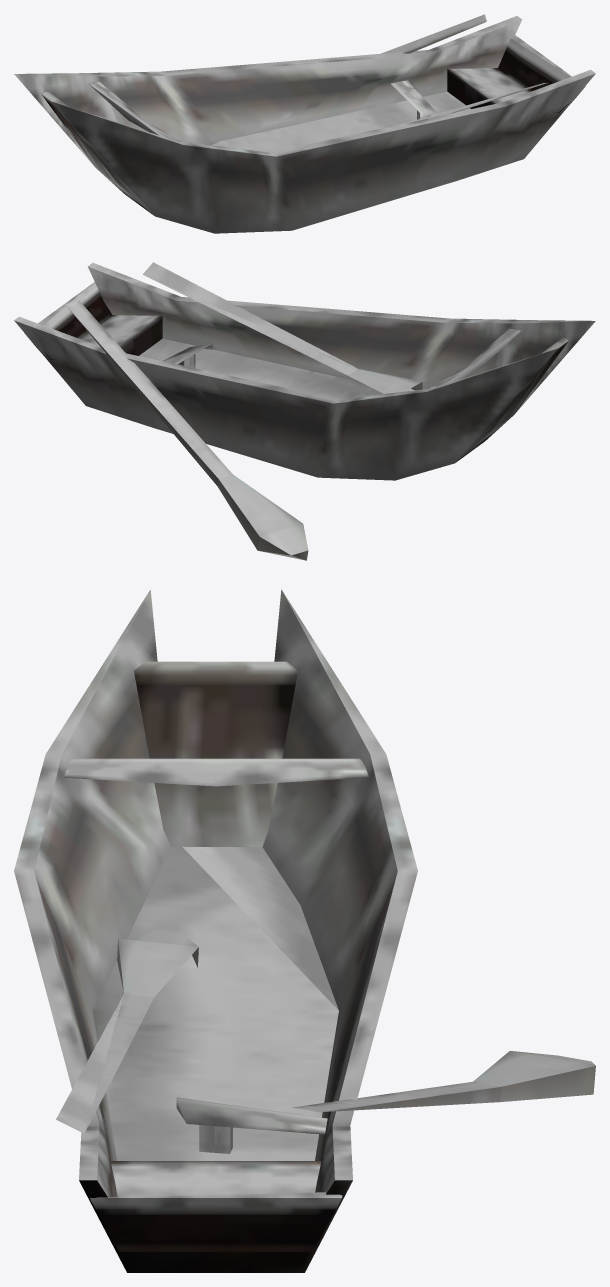
The model's file is general_obj_ferryboat02_lod_01.fbx.
The picture shows the model from 3 angles, top to bottom: view 1: azimuth 30°, elevation 25°; view 2: azimuth 150°, elevation 25°; view 3: azimuth 270°, elevation 25°; orthographic projection. The views are drawn at different scales.
Visible parts, largest first — view 1: Object10; view 2: Object10; view 3: Object10.
Part boxes in pixels (left/top/right/bottom): Object10: left=14, top=14, right=595, bottom=233; Object10: left=14, top=262, right=595, bottom=560; Object10: left=14, top=589, right=595, bottom=1272.
Bounding box in the file's own units: 4.77 × 1.71 × 2.64.
